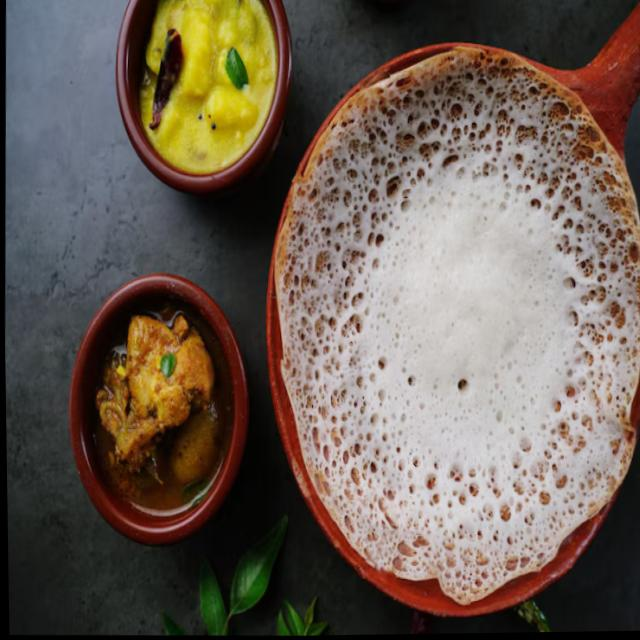AAPAM: (274, 44, 640, 607)
CURRY: (92, 314, 221, 518), (130, 0, 275, 171)
